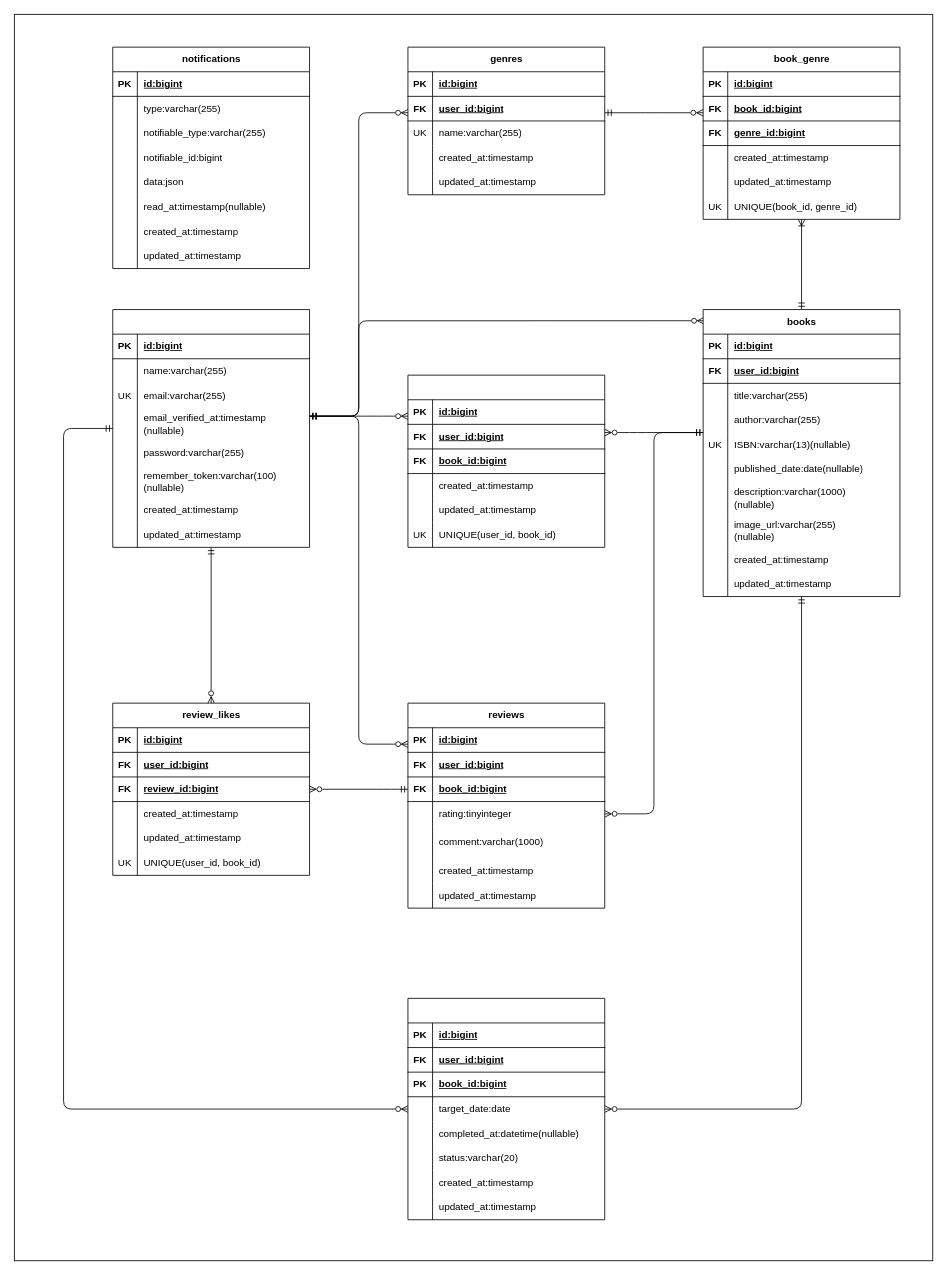
Some shapes in this 947 by 1275 pixel diagram are drawn without their labels. The shapes that lost their labels are listed below. From the top down, each one's box as (x1, y1, x2, y2) in pixels, then its label:
(112, 309, 310, 547): users
(407, 374, 605, 547): favorites
(407, 998, 605, 1220): reading_plans
